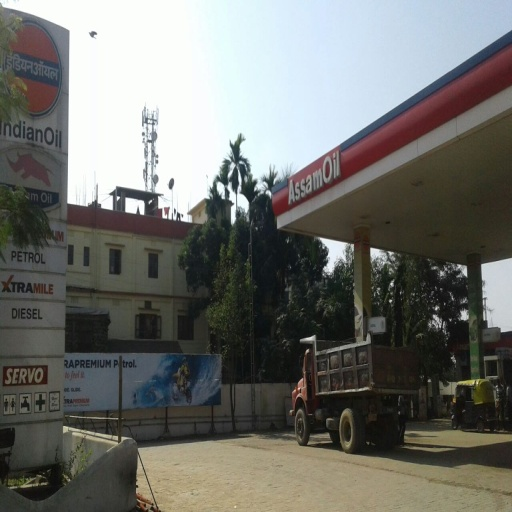roof: (275, 28, 511, 262)
